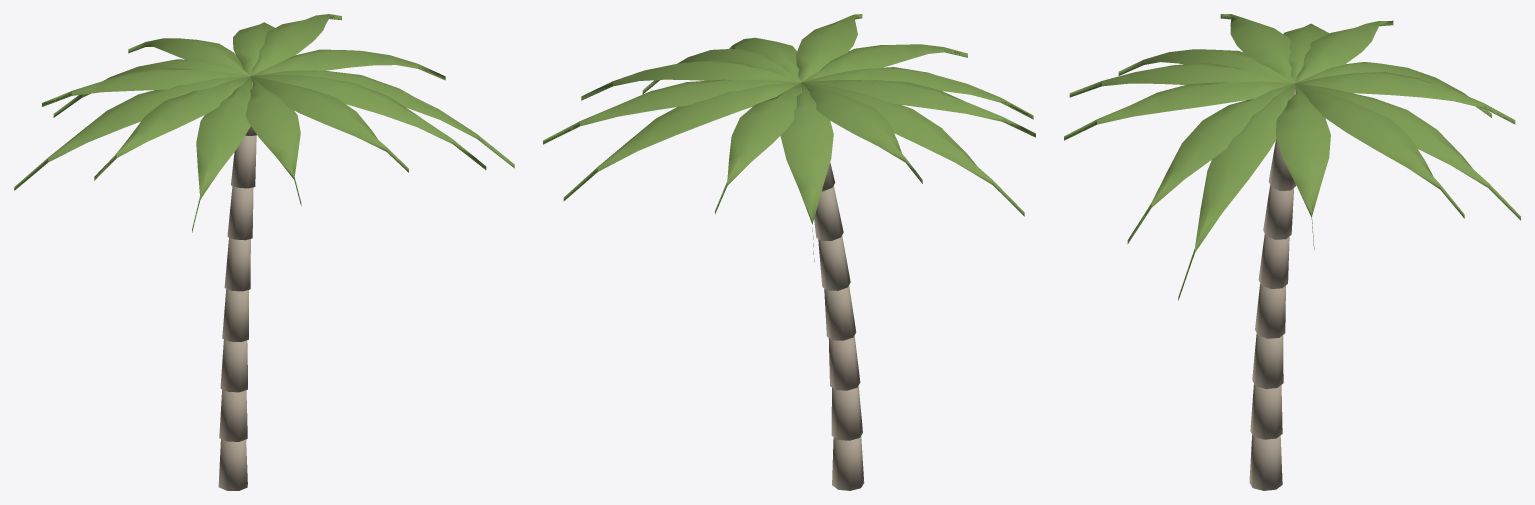
The model's file is arbre_palmier1.glb.
3 views of the same model, side by side, from view 1: azimuth 30°, elevation 25°; view 2: azimuth 150°, elevation 25°; view 3: azimuth 270°, elevation 25° (orthographic). The views are drawn at different scales.
Visible parts, largest first — view 1: arbre_palmier1; view 2: arbre_palmier1; view 3: arbre_palmier1.
Part boxes in pixels (x1=…): arbre_palmier1: x1=14, y1=14, x2=514, y2=490; arbre_palmier1: x1=543, y1=14, x2=1035, y2=490; arbre_palmier1: x1=1064, y1=14, x2=1520, y2=490.
Size of the model in its own units: 8.7 by 7.64 by 7.43.
